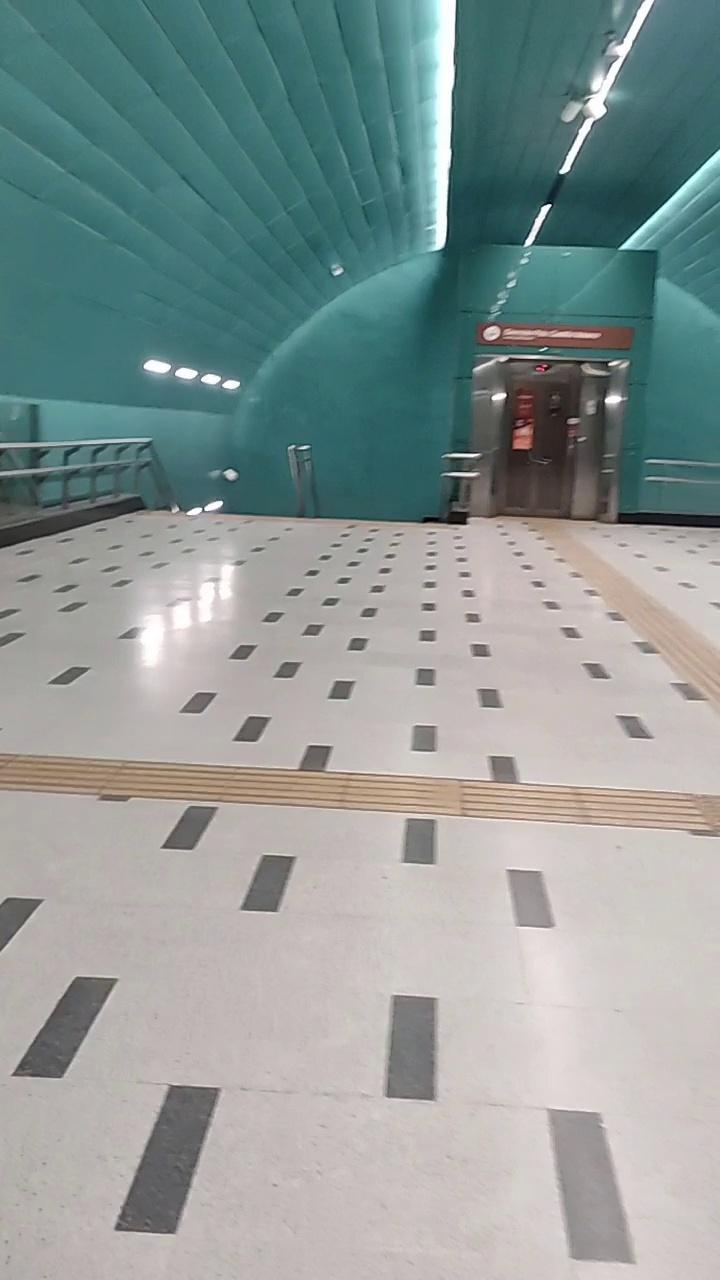handicapped symbol: (551, 393, 561, 406)
